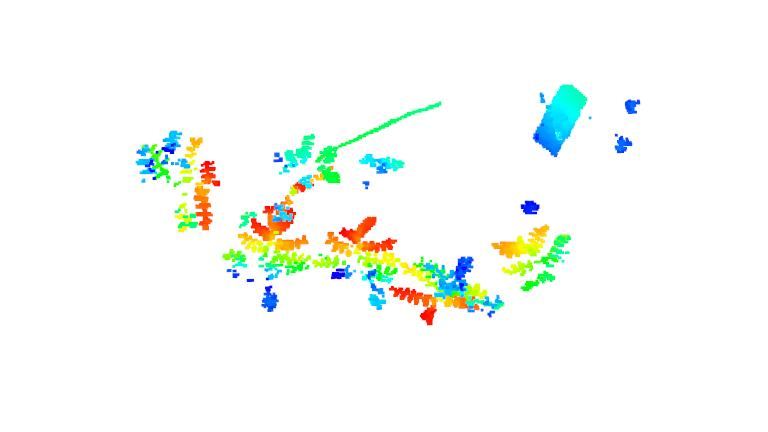chickpea: (225, 200, 316, 310), (133, 133, 221, 232), (389, 260, 505, 325), (324, 216, 398, 311), (493, 224, 573, 289), (272, 134, 341, 195), (359, 152, 406, 176)
